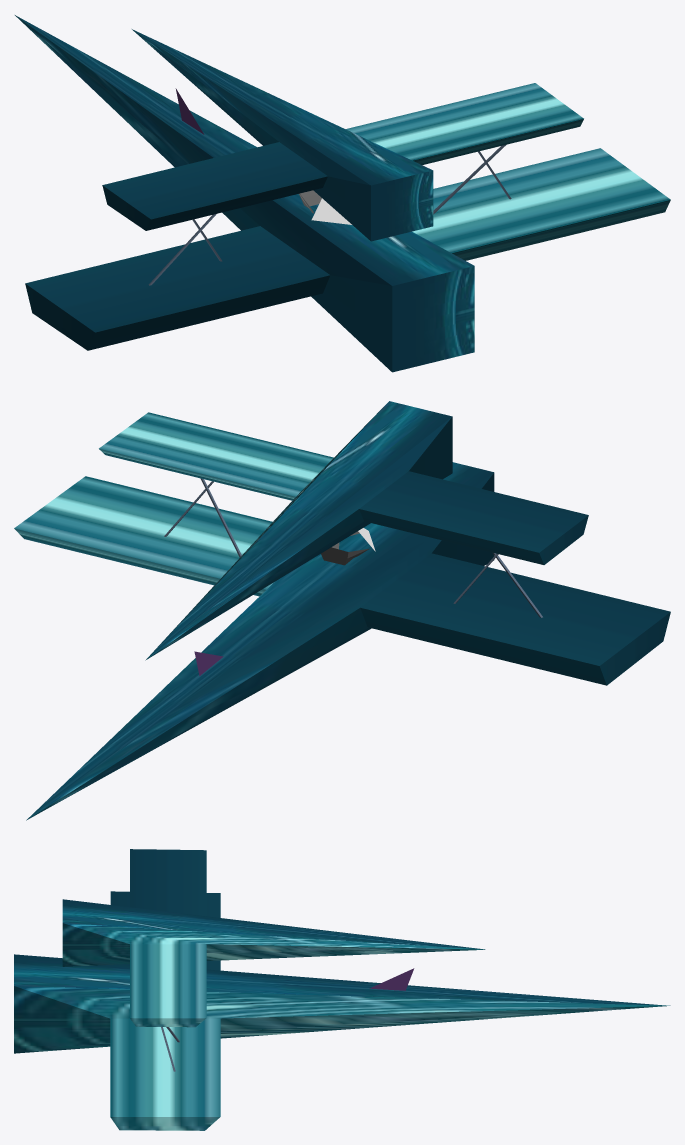
The picture shows the model from 3 angles, top to bottom: view 1: azimuth 30°, elevation 25°; view 2: azimuth 150°, elevation 25°; view 3: azimuth 270°, elevation 25°; orthographic projection. The views are drawn at different scales.
Visible parts, largest first — view 1: body.001, body.002; view 2: body.001, body.002; view 3: body.001, body.002, tail.
Part boxes in pixels (bbox=[...]): body.001: bbox=[15, 15, 670, 372]; body.002: bbox=[102, 29, 583, 241]; body.001: bbox=[14, 462, 670, 820]; body.002: bbox=[99, 401, 588, 660]; body.001: bbox=[14, 891, 670, 1130]; body.002: bbox=[62, 849, 485, 1027]; tail: bbox=[369, 968, 414, 990].
Size of the model in its own units: 41.93 by 11.26 by 52.94.
9 materials, 2 textured.
